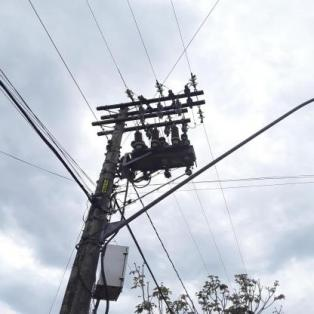Poste: (56, 98, 138, 314)
